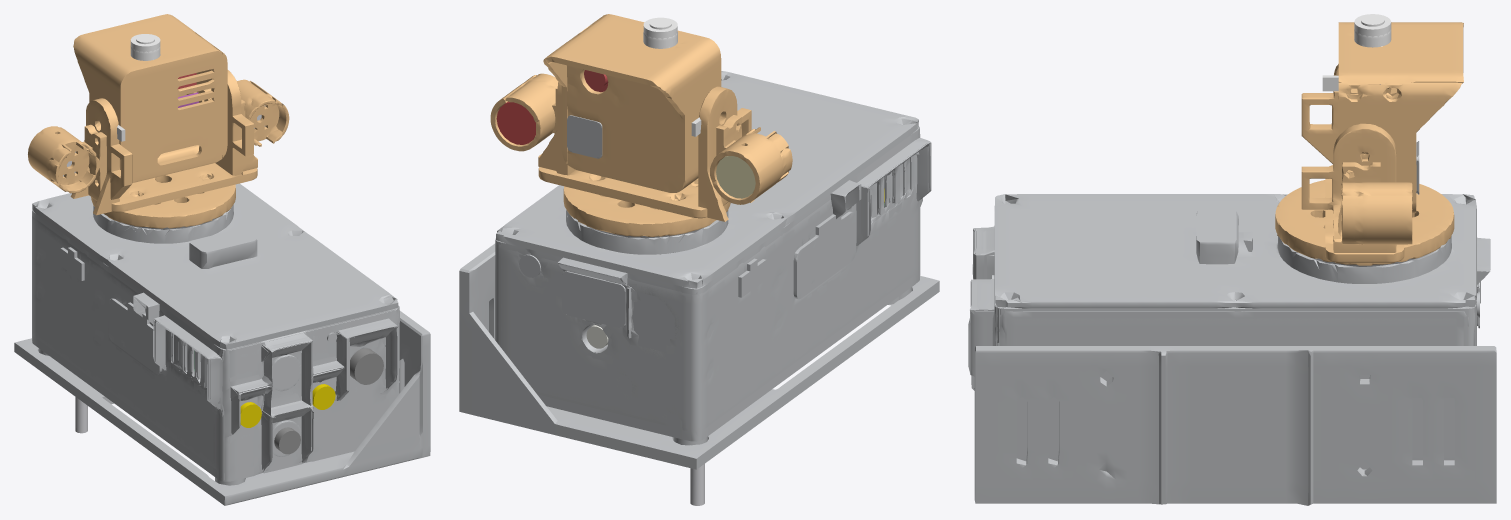
The model's file is gehaeuse.glb.
3 renders of one model, left to right at view 1: azimuth 30°, elevation 25°; view 2: azimuth 150°, elevation 25°; view 3: azimuth 270°, elevation 25°, orthographic. The views are drawn at different scales.
Parts seen in each view (by area): view 1: lid, tub, tub52, head, tub53, holder, yoke, lamp1, turntable, arm2, lamp2, plug (+8 smaller); view 2: tub, lid, tub52, head, holder, tub53, yoke, turntable, lamp1, wplug, lamp2, plug (+9 smaller); view 3: holder, lid, tub52, tub53, head, side, turntable, lamp2, arm2, yoke, tub, sled.
Part boxes in pixels (x1,y1,x2,y2): lid: (32,183,398,349); tub: (32,216,399,481); tub52: (32,209,399,481); head: (73,14,222,182); tub53: (32,209,398,481); holder: (14,311,430,505); yoke: (70,98,257,215); lamp1: (28,124,106,193); turntable: (91,184,235,228); arm2: (215,70,257,175); lamp2: (237,79,289,146); plug: (121,308,162,374); tub: (495,127,930,441); lid: (496,71,918,288); tub52: (495,126,930,441); head: (545,14,721,192); holder: (459,243,939,469); tub53: (495,126,931,441); yoke: (538,86,754,221); turntable: (563,186,730,236); lamp1: (710,115,792,204); wplug: (562,271,625,327); lamp2: (490,73,558,151); plug: (811,211,855,286); holder: (974,346,1496,505); lid: (995,194,1476,308); tub52: (970,205,1490,459); tub53: (968,226,1490,469); head: (1338,22,1463,213); side: (1338,82,1462,212); turntable: (1275,180,1454,265); lamp2: (1341,162,1412,244); arm2: (1301,123,1396,252); yoke: (1301,64,1404,262); tub: (970,213,1476,390); sled: (1354,14,1391,46).
Size of the model in its own units: 0.1266 by 0.2031 by 0.2004.
